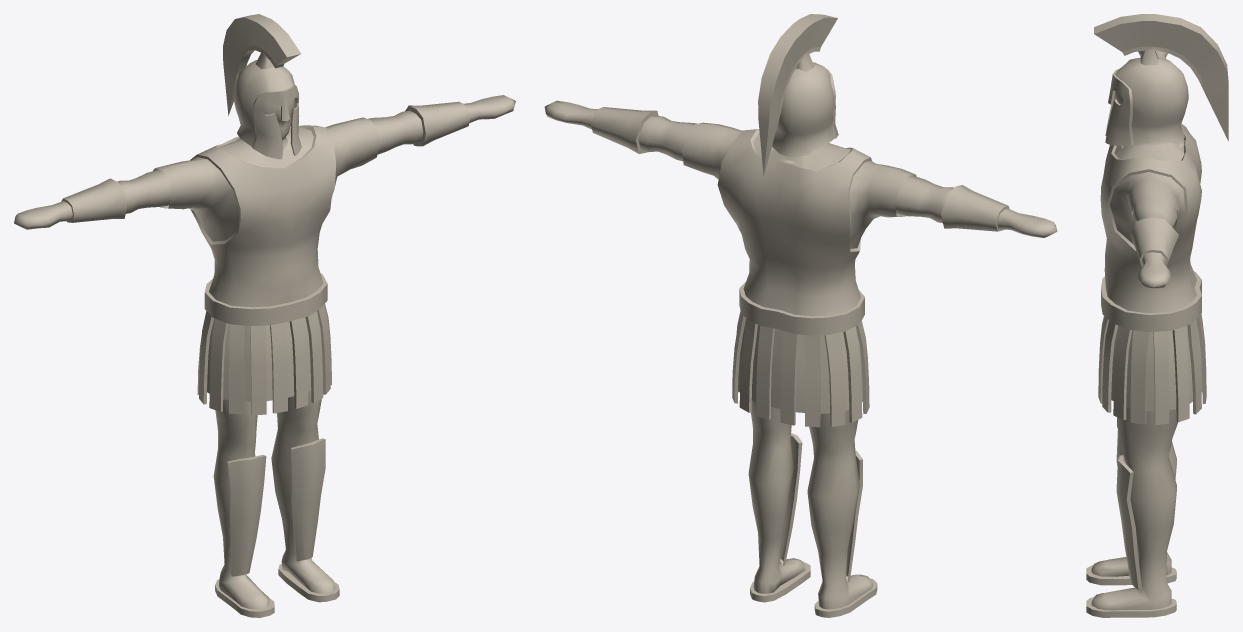
Rendered from player.FBX.
3 views of the same model, side by side, from view 1: azimuth 30°, elevation 25°; view 2: azimuth 150°, elevation 25°; view 3: azimuth 270°, elevation 25° (orthographic). The views are drawn at different scales.
Parts seen in each view (by area): view 1: torso, helmet, mane; view 2: torso, helmet, mane; view 3: torso, helmet, mane, head.
Boxes of the visible parts, <box> form: torso: <box>14,95,515,617</box>; helmet: <box>234,45,301,159</box>; mane: <box>223,14,301,115</box>; torso: <box>544,100,1057,617</box>; helmet: <box>772,47,838,157</box>; mane: <box>758,14,837,176</box>; torso: <box>1086,51,1206,617</box>; helmet: <box>1105,46,1203,145</box>; mane: <box>1094,14,1228,141</box>; head: <box>1112,91,1183,148</box>.
Bounding box in the file's own units: 176 × 188 × 42.19.
